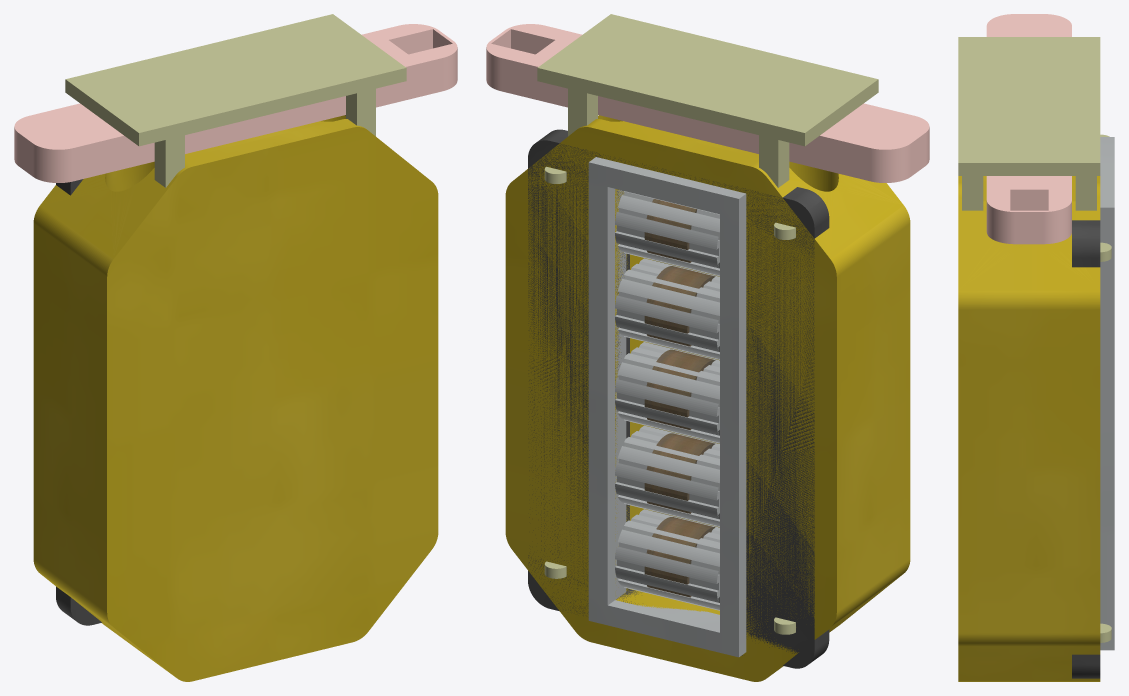
Rendered from Equipment_Lock__0013.glb.
3 renders of one model, left to right at view 1: azimuth 30°, elevation 25°; view 2: azimuth 150°, elevation 25°; view 3: azimuth 270°, elevation 25°, orthographic. The views are drawn at different scales.
Parts seen in each view (by area): view 1: body::body_shell, body::hasp_brackets, hasp_bar::hasp_bar, body::faceplate; view 2: body::body_shell, body::faceplate, body::dial_frame, body::hasp_brackets, hasp_bar::hasp_bar, dial_4::dial_4_wheel, dial_1::dial_1_wheel, dial_3::dial_3_wheel, dial_2::dial_2_wheel, dial_5::dial_5_wheel, dial_4::dial_4_band, dial_1::dial_1_band (+4 smaller); view 3: body::body_shell, body::hasp_brackets, hasp_bar::hasp_bar, body::dial_frame, body::faceplate, body::rivets.
Boxes of the visible parts, bbox=[...] form: body::body_shell: bbox=[33, 115, 438, 681]; body::hasp_brackets: bbox=[65, 14, 406, 187]; hasp_bar::hasp_bar: bbox=[14, 24, 457, 182]; body::faceplate: bbox=[56, 115, 345, 625]; body::body_shell: bbox=[505, 115, 910, 681]; body::faceplate: bbox=[528, 129, 829, 668]; body::dial_frame: bbox=[588, 157, 746, 657]; body::hasp_brackets: bbox=[537, 14, 878, 187]; hasp_bar::hasp_bar: bbox=[486, 24, 929, 182]; dial_4::dial_4_wheel: bbox=[615, 258, 719, 359]; dial_1::dial_1_wheel: bbox=[615, 509, 719, 610]; dial_3::dial_3_wheel: bbox=[615, 342, 719, 443]; dial_2::dial_2_wheel: bbox=[615, 425, 719, 527]; dial_5::dial_5_wheel: bbox=[615, 191, 719, 276]; dial_4::dial_4_band: bbox=[644, 266, 715, 346]; dial_1::dial_1_band: bbox=[644, 517, 715, 597]; body::body_shell: bbox=[958, 176, 1100, 681]; body::hasp_brackets: bbox=[958, 37, 1100, 210]; hasp_bar::hasp_bar: bbox=[986, 14, 1071, 244]; body::dial_frame: bbox=[1100, 137, 1114, 650]; body::faceplate: bbox=[1072, 220, 1100, 678]; body::rivets: bbox=[1100, 134, 1111, 642].
Bounding box in the file's own units: 0.066 × 0.0842 × 0.022.
Materials: 6 (5 with a texture image).
